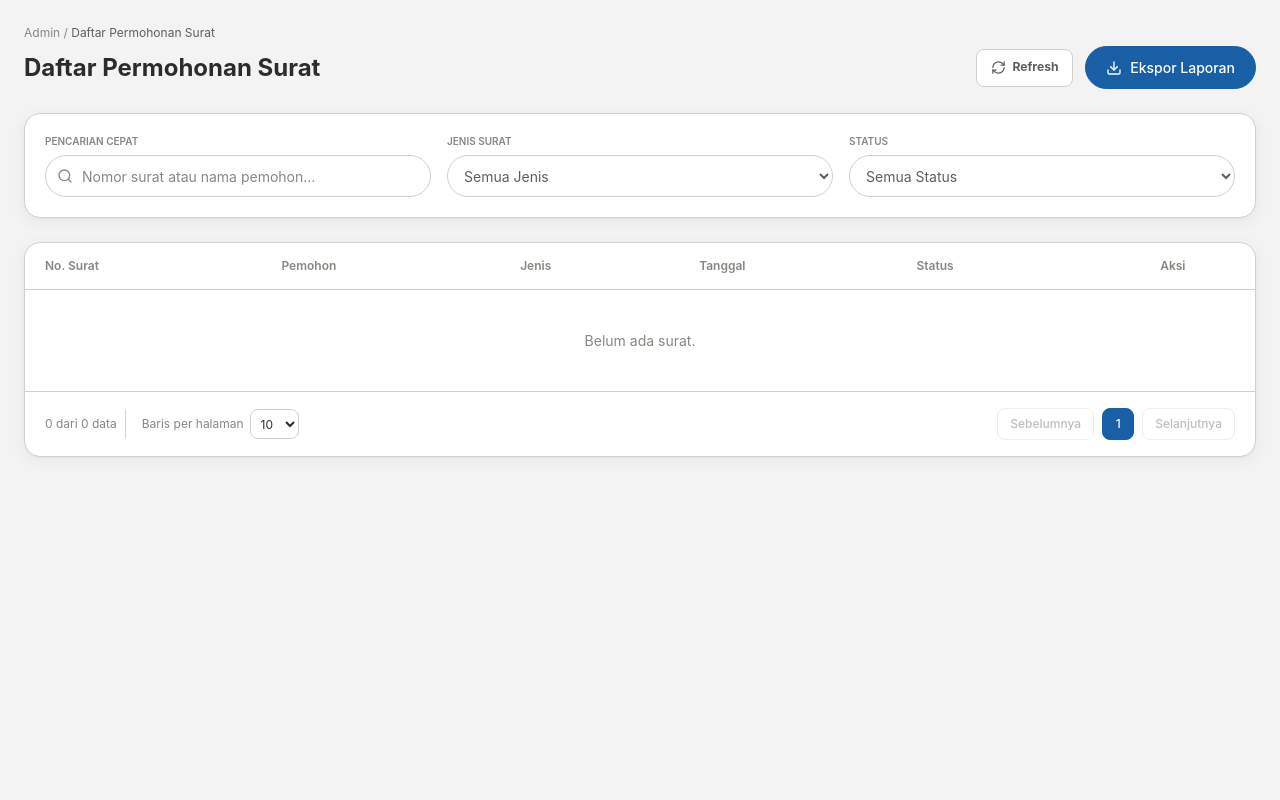
Scenario: OperatorSuratListPage export › shows a centered "Data kosong" warning instead of downloading an empty report
The image size is (1280, 800).
Click the button "Ekspor Laporan" at point(1171, 68), box [1085,46,1256,89]
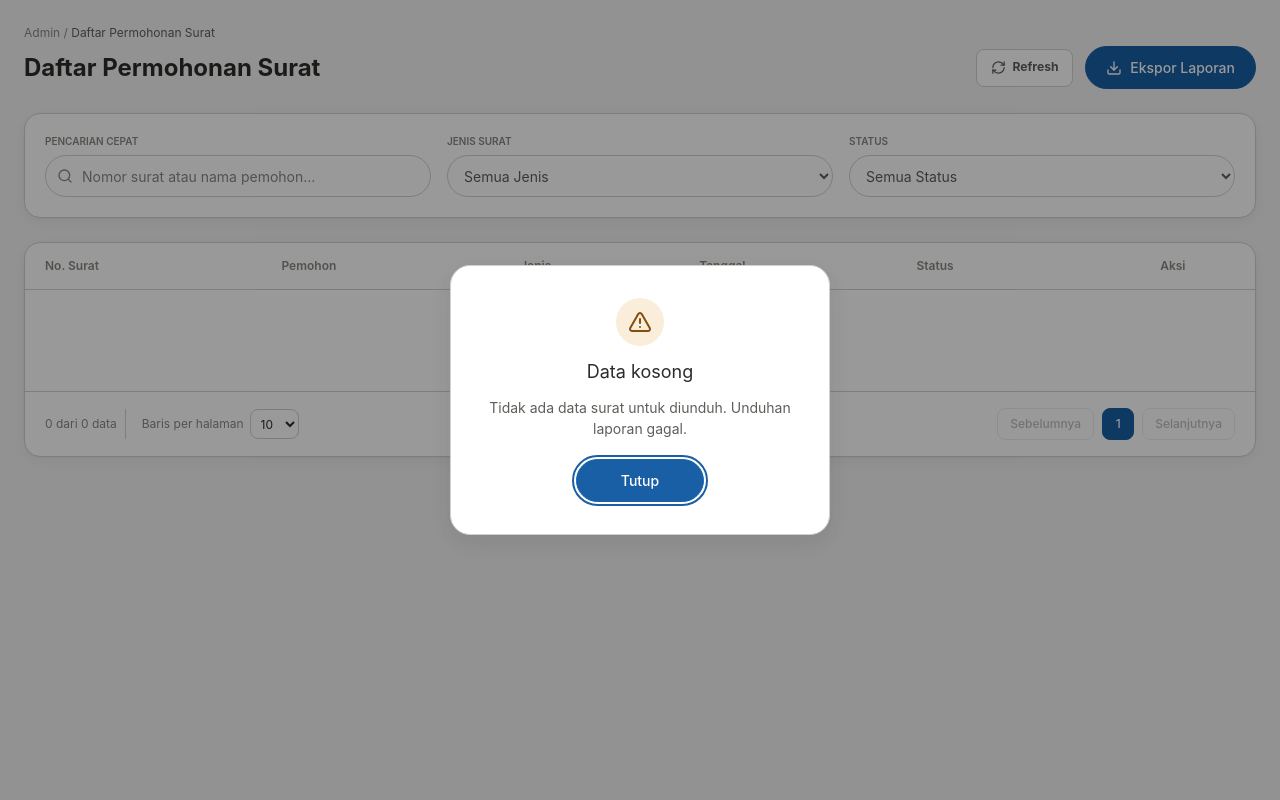
Expected: the dialog "Data kosong" shows "Unduhan laporan gagal", [489,399,791,437]
Click the button "Tutup" at point(640, 480), box [576,459,704,502]
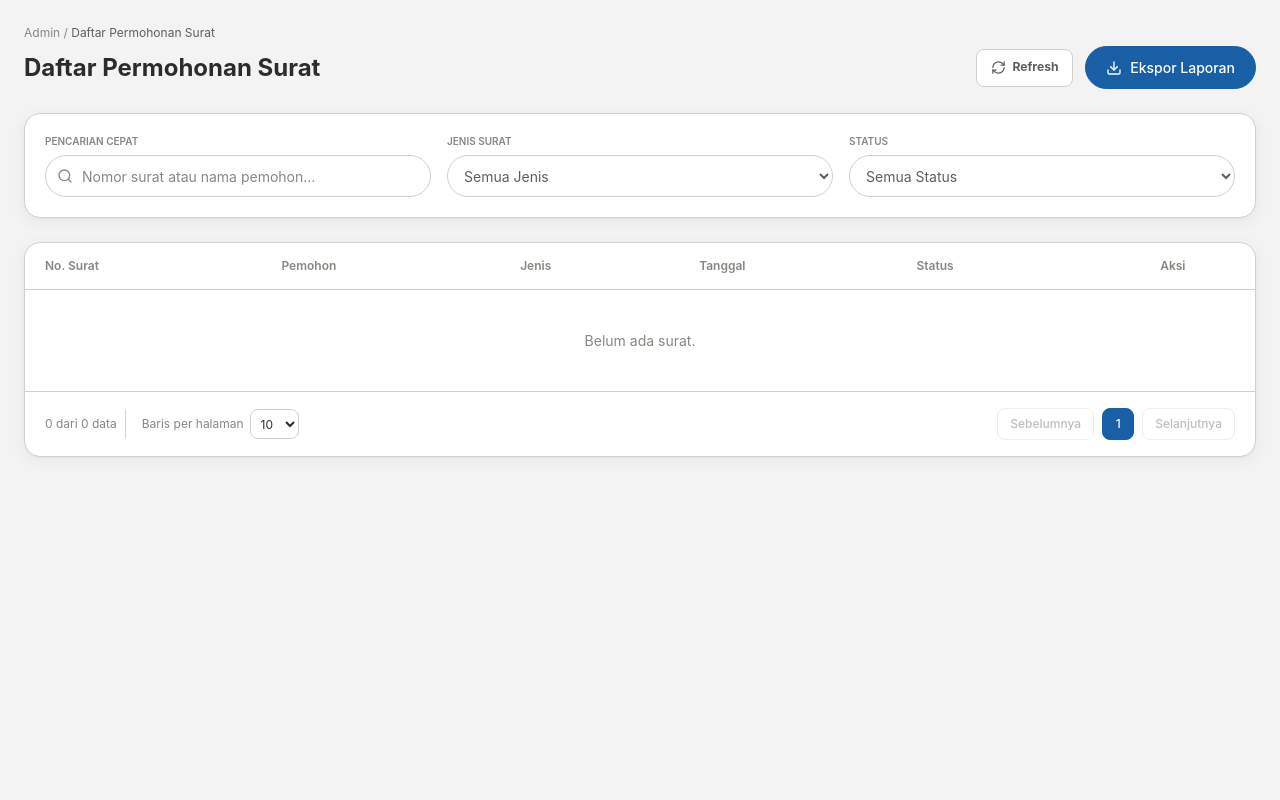
Expected: the dialog is gone
